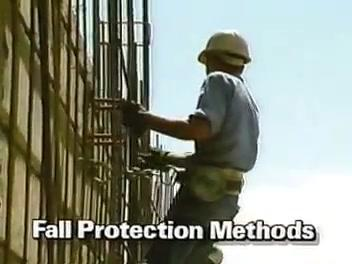helmet: (195, 29, 257, 61)
no -hi-vis jacket: (187, 74, 261, 174)
